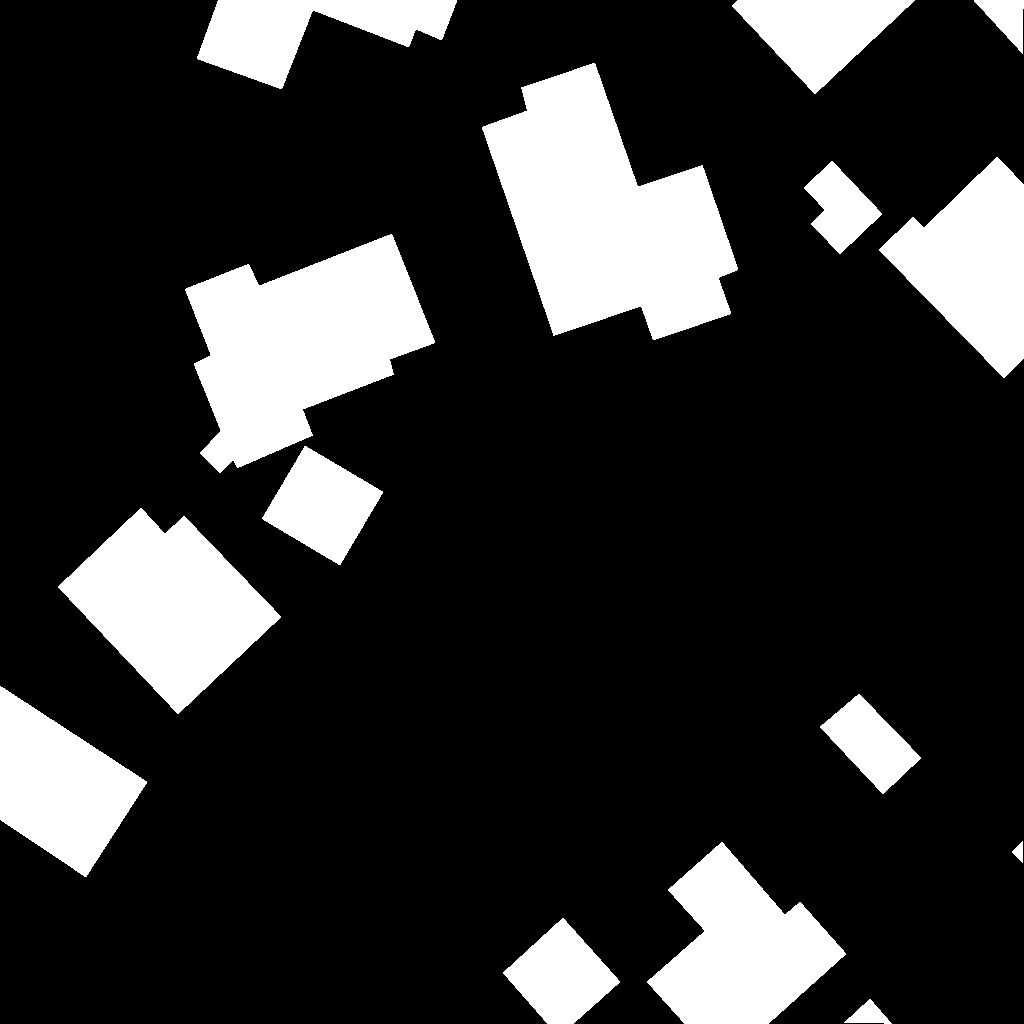building: (482, 63, 739, 341), (185, 234, 436, 474), (58, 508, 282, 715), (647, 842, 847, 1024), (879, 157, 1024, 379), (0, 686, 148, 878), (197, 0, 458, 90), (732, 0, 916, 95), (262, 446, 384, 566), (503, 918, 621, 1024), (820, 694, 922, 795), (804, 161, 883, 255), (973, 0, 1024, 55), (844, 999, 893, 1024), (1012, 841, 1024, 864)
